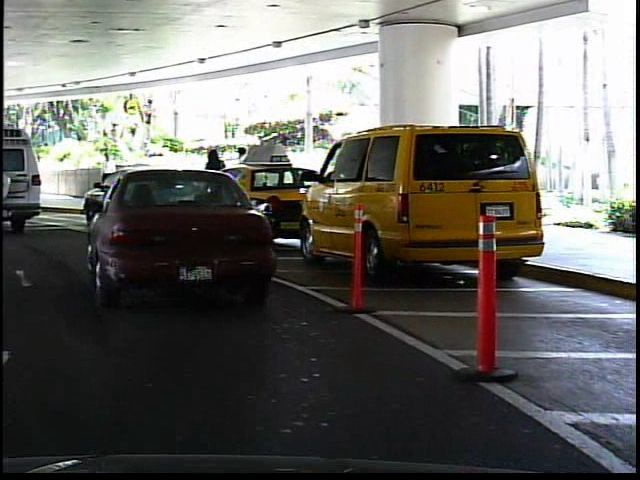person: (200, 142, 232, 208), (235, 139, 260, 208), (96, 145, 120, 203), (25, 155, 46, 198)
